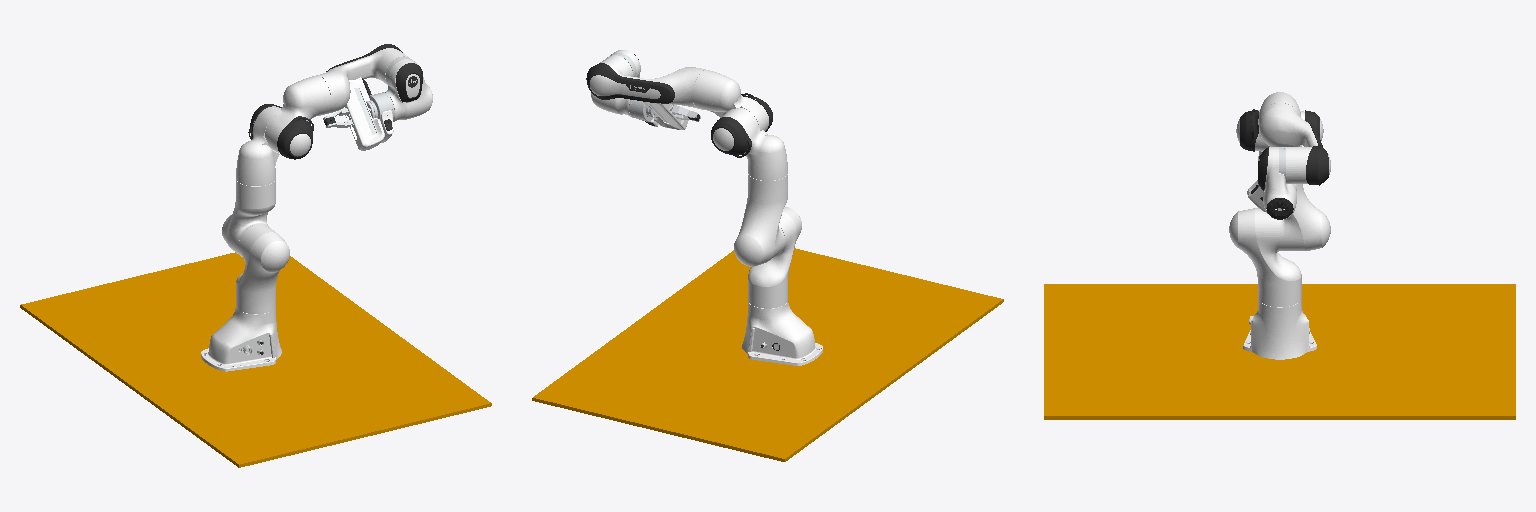
URDF robot description (panda):
<?xml version="1.0" ?>
<robot name="panda" xmlns:xacro="http://www.ros.org/wiki/xacro">
  <link name="basex">
    <visual>
      <origin xyz="0 0 -0.02"/>
      <geometry>
        <box size="0.8 1.2 0.01"/>
      </geometry>
    </visual>
  </link>
  <link name="basey">
    <visual>
      <origin xyz="0 0 -0.01"/>
      <geometry>
        <box size="0.1 0.1 0.01"/>
      </geometry>
    </visual>
  </link>
  <link name="panda_link0">
    <visual>
      <geometry>
        <mesh filename="../meshes/visual/link0.dae"/>
      </geometry>
    </visual>
    <collision>
      <geometry>
        <mesh filename="../meshes/collision/link0.obj"/>
      </geometry>
    </collision>
  </link>
  <link name="panda_link1">
    <visual>
      <geometry>
        <mesh filename="../meshes/visual/link1.dae"/>
      </geometry>
    </visual>
    <collision>
      <geometry>
        <mesh filename="../meshes/collision/link1.obj"/>
      </geometry>
    </collision>
  </link>
  <joint name="panda_joint1" type="revolute">
    <safety_controller k_position="100.0" k_velocity="40.0" soft_lower_limit="-2.8973" soft_upper_limit="2.8973"/>
    <origin rpy="0 0 0" xyz="0 0 0.333"/>
    <parent link="panda_link0"/>
    <child link="panda_link1"/>
    <axis xyz="0 0 1"/>
    <dynamics damping="10.0"/>
    <limit effort="87" lower="-2.8973" upper="2.8973" velocity="2.1750"/>
  </joint>
  <link name="panda_link2">
    <visual>
      <geometry>
        <mesh filename="../meshes/visual/link2.dae"/>
      </geometry>
    </visual>
    <collision>
      <geometry>
        <mesh filename="../meshes/collision/link2.obj"/>
      </geometry>
    </collision>
  </link>
  <joint name="panda_joint2" type="revolute">
    <safety_controller k_position="100.0" k_velocity="40.0" soft_lower_limit="-1.7628" soft_upper_limit="1.7628"/>
    <origin rpy="-1.57079632679 0 0" xyz="0 0 0"/>
    <parent link="panda_link1"/>
    <child link="panda_link2"/>
    <axis xyz="0 0 1"/>
    <dynamics damping="10.0"/>
    <limit effort="87" lower="-1.7628" upper="1.7628" velocity="2.1750"/>
  </joint>
  <link name="panda_link3">
    <visual>
      <geometry>
        <mesh filename="../meshes/visual/link3.dae"/>
      </geometry>
    </visual>
    <collision>
      <geometry>
        <mesh filename="../meshes/collision/link3.obj"/>
      </geometry>
    </collision>
  </link>
  <joint name="panda_joint3" type="revolute">
    <safety_controller k_position="100.0" k_velocity="40.0" soft_lower_limit="-2.8973" soft_upper_limit="2.8973"/>
    <origin rpy="1.57079632679 0 0" xyz="0 -0.316 0"/>
    <parent link="panda_link2"/>
    <child link="panda_link3"/>
    <axis xyz="0 0 1"/>
    <dynamics damping="10.0"/>
    <limit effort="87" lower="-2.8973" upper="2.8973" velocity="2.1750"/>
  </joint>
  <link name="panda_link4">
    <visual>
      <geometry>
        <mesh filename="../meshes/visual/link4.dae"/>
      </geometry>
    </visual>
    <collision>
      <geometry>
        <mesh filename="../meshes/collision/link4.obj"/>
      </geometry>
    </collision>
  </link>
  <joint name="panda_joint4" type="revolute">
    <safety_controller k_position="100.0" k_velocity="40.0" soft_lower_limit="-3.0718" soft_upper_limit="-0.0698"/>
    <origin rpy="1.57079632679 0 0" xyz="0.0825 0 0"/>
    <parent link="panda_link3"/>
    <child link="panda_link4"/>
    <axis xyz="0 0 1"/>
    <dynamics damping="10.0"/>
    <limit effort="87" lower="-3.0718" upper="-0.0698" velocity="2.1750"/>
    <!-- something is weird with this joint limit config
    <dynamics damping="10.0"/>
    <limit effort="87" lower="-3.0" upper="0.087" velocity="2.1750"/>  -->
  </joint>
  <link name="panda_link5">
    <visual>
      <geometry>
        <mesh filename="../meshes/visual/link5.dae"/>
      </geometry>
    </visual>
    <collision>
      <geometry>
        <mesh filename="../meshes/collision/link5.obj"/>
      </geometry>
    </collision>
  </link>
  <joint name="panda_joint5" type="revolute">
    <safety_controller k_position="100.0" k_velocity="40.0" soft_lower_limit="-2.8973" soft_upper_limit="2.8973"/>
    <origin rpy="-1.57079632679 0 0" xyz="-0.0825 0.384 0"/>
    <parent link="panda_link4"/>
    <child link="panda_link5"/>
    <axis xyz="0 0 1"/>
    <dynamics damping="10.0"/>
    <limit effort="12" lower="-2.8973" upper="2.8973" velocity="2.6100"/>
  </joint>
  <link name="panda_link6">
    <visual>
      <geometry>
        <mesh filename="../meshes/visual/link6.dae"/>
      </geometry>
    </visual>
    <collision>
      <geometry>
        <mesh filename="../meshes/collision/link6.obj"/>
      </geometry>
    </collision>
  </link>
  <joint name="panda_joint6" type="revolute">
    <safety_controller k_position="100.0" k_velocity="40.0" soft_lower_limit="-0.0175" soft_upper_limit="3.7525"/>
    <origin rpy="1.57079632679 0 0" xyz="0 0 0"/>
    <parent link="panda_link5"/>
    <child link="panda_link6"/>
    <axis xyz="0 0 1"/>
    <dynamics damping="10.0"/>
    <limit effort="12" lower="-0.0175" upper="3.7525" velocity="2.6100"/>
    <!-- <dynamics damping="10.0"/>
    <limit effort="12" lower="-0.0873" upper="3.0" velocity="2.6100"/> -->
  </joint>
  <link name="panda_link7">
    <visual>
      <geometry>
        <mesh filename="../meshes/visual/link7.dae"/>
      </geometry>
    </visual>
    <collision>
      <geometry>
        <mesh filename="../meshes/collision/link7.obj"/>
      </geometry>
    </collision>
  </link>
  <joint name="panda_joint7" type="revolute">
    <safety_controller k_position="100.0" k_velocity="40.0" soft_lower_limit="-2.8973" soft_upper_limit="2.8973"/>
    <origin rpy="1.57079632679 0 0" xyz="0.088 0 0"/>
    <parent link="panda_link6"/>
    <child link="panda_link7"/>
    <axis xyz="0 0 1"/>
    <dynamics damping="10.0"/>
    <limit effort="12" lower="-2.8973" upper="2.8973" velocity="2.6100"/>
  </joint>
  <!--
  <link name="panda_link8"/>
  <joint name="panda_joint8" type="fixed">
    <origin rpy="0 0 0" xyz="0 0 0.107"/>
    <parent link="panda_link7"/>
    <child link="panda_link8"/>
    <axis xyz="0 0 0"/>
  </joint>
  Removing this joint seems to help with some stability things
  -->
  <joint name="panda_hand_joint" type="fixed">
    <!--
    <parent link="panda_link8"/>
    -->
    <parent link="panda_link7"/>
    <child link="panda_hand"/>
    <origin rpy="0 0 -0.785398163397" xyz="0 0 0.107"/>
    <!--
    <origin rpy="0 0 -0.785398163397" xyz="0 0 0"/>
    -->
  </joint>
  <link name="panda_hand">
    <visual>
      <geometry>
        <mesh filename="../meshes/visual/hand.dae"/>
      </geometry>
    </visual>
    <collision>
      <geometry>
        <mesh filename="../meshes/collision/hand.obj"/>
      </geometry>
    </collision>
  </link>
  <link name="panda_leftfinger">
    <visual>
      <geometry>
        <mesh filename="../meshes/visual/finger.dae" scale="1 1 1.5"/>
      </geometry>
    </visual>
    <collision>
      <geometry>
        <mesh filename="../meshes/collision/finger.obj" scale="1 1 1.5"/>
      </geometry>
    </collision>
  </link>
  <link name="panda_rightfinger">
    <visual>
      <origin rpy="0 0 3.14159265359" xyz="0 0 0"/>
      <geometry>
        <mesh filename="../meshes/visual/finger.dae" scale="1 1 1.5"/>
      </geometry>
    </visual>
    <collision>
      <origin rpy="0 0 3.14159265359" xyz="0 0 0"/>
      <geometry>
        <mesh filename="../meshes/collision/finger.obj" scale="1 1 1.5"/>
      </geometry>
    </collision>
  </link>
  <joint name="panda_finger_joint1" type="prismatic">
    <parent link="panda_hand"/>
    <child link="panda_leftfinger"/>
    <origin rpy="0 0 0" xyz="0 0 0.0584"/>
    <axis xyz="0 1 0"/>
    <dynamics damping="10.0"/>
    <limit effort="100" lower="0.0" upper="0.04" velocity="1.0"/>
  </joint>
  <joint name="panda_finger_joint2" type="prismatic">
    <parent link="panda_hand"/>
    <child link="panda_rightfinger"/>
    <origin rpy="0 0 0" xyz="0 0 0.0584"/>
    <axis xyz="0 -1 0"/>
    <dynamics damping="10.0"/>
    <limit effort="100" lower="0.0" upper="0.04" velocity="1.0"/>
    <mimic joint="panda_finger_joint1"/>
  </joint>
  <joint name="z_free_base1" type="prismatic">
    <origin rpy="0 0 0" xyz="0 0 -0.01"/>
    <parent link="basex"/>
    <child link="basey"/>
    <axis xyz="1 0 0"/>
    <dynamics damping="10.0"/>
    <limit effort="100" lower="-0.3" upper="0.3" velocity="1.0"/>
  </joint>
  <joint name="z_free_base2" type="prismatic">
    <origin rpy="0 0 0" xyz="0 0 0"/>
    <parent link="basey"/>
    <child link="panda_link0"/>
    <axis xyz="0 1 0"/>
    <dynamics damping="10.0"/>
    <limit effort="50" lower="-0.5" upper="0.5" velocity="0.3"/>
  </joint>
</robot>

--- Facts derived from the render (not from the file) ---
3 views of the same robot in one strip: view 1: azimuth 30°, elevation 25°; view 2: azimuth 150°, elevation 25°; view 3: azimuth 270°, elevation 25° (orthographic).
Model panda with 13 links and 12 joints (7 revolute, 4 prismatic, 1 fixed), rooted at basex, posed joints at zero except 1 at the middle of their limits (panda_joint4 = -1.57).
Visible links, largest first — view 1: basex, panda_link0, panda_link1, panda_link4, panda_link3, panda_link5, panda_link6, panda_link2, panda_hand, panda_link7; view 2: basex, panda_link0, panda_link5, panda_link2, panda_link3, panda_link1, panda_link4, panda_link6, panda_hand; view 3: basex, panda_link1, panda_link5, panda_link0, panda_link2, panda_link6, panda_link4.
Link boxes in pixels (x1,y1,x2,y2): basex: (20, 252, 491, 467); panda_link0: (201, 308, 281, 371); panda_link1: (236, 224, 289, 313); panda_link4: (265, 75, 330, 159); panda_link3: (236, 104, 281, 185); panda_link5: (319, 44, 407, 113); panda_link6: (385, 57, 432, 121); panda_link2: (222, 180, 275, 256); panda_hand: (344, 77, 384, 150); panda_link7: (369, 92, 394, 142); basex: (532, 248, 1003, 461); panda_link0: (742, 302, 822, 365); panda_link5: (586, 55, 705, 107); panda_link2: (734, 174, 787, 266); panda_link3: (711, 108, 787, 180); panda_link1: (748, 207, 801, 308); panda_link4: (693, 70, 772, 131); panda_link6: (591, 50, 640, 116); panda_hand: (641, 101, 688, 129); basex: (1044, 284, 1515, 419); panda_link1: (1229, 208, 1301, 306); panda_link5: (1258, 103, 1330, 185); panda_link0: (1243, 299, 1316, 359); panda_link2: (1280, 184, 1330, 250); panda_link6: (1258, 147, 1296, 219); panda_link4: (1236, 92, 1300, 151).
Size in the robot's own frame: 0.9482 by 1.2 by 0.8015 metres.
Meshes: 10 distinct files referenced, 11 mesh visuals loaded (10 Collada DAE).
